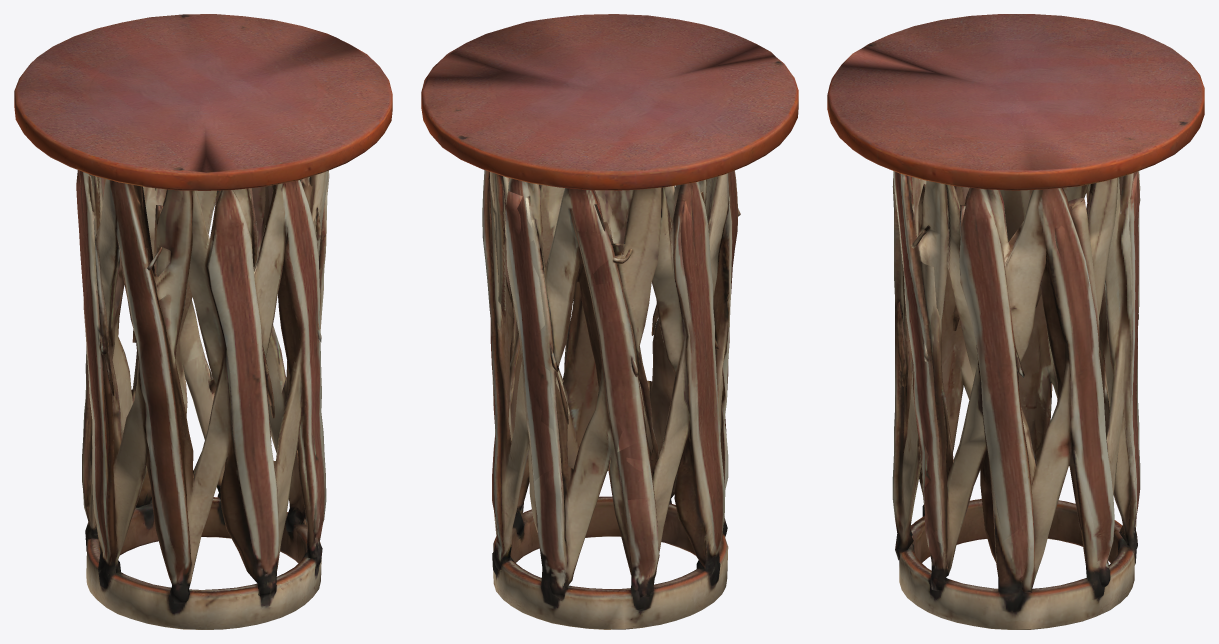
Rendered from equipale_boho_side_table_0428035738_texture.glb.
The picture shows the model from 3 angles, left to right: view 1: azimuth 30°, elevation 25°; view 2: azimuth 150°, elevation 25°; view 3: azimuth 270°, elevation 25°; orthographic projection.
Visible parts, largest first — view 1: Mesh_0; view 2: Mesh_0; view 3: Mesh_0.
Part boxes in pixels (left/top/right/bottom): Mesh_0: left=14, top=14, right=392, bottom=629; Mesh_0: left=421, top=14, right=798, bottom=629; Mesh_0: left=827, top=14, right=1204, bottom=629.
Size of the model in its own units: 0.3015 by 0.4318 by 0.3015.
Materials: 1 (1 with a texture image).
